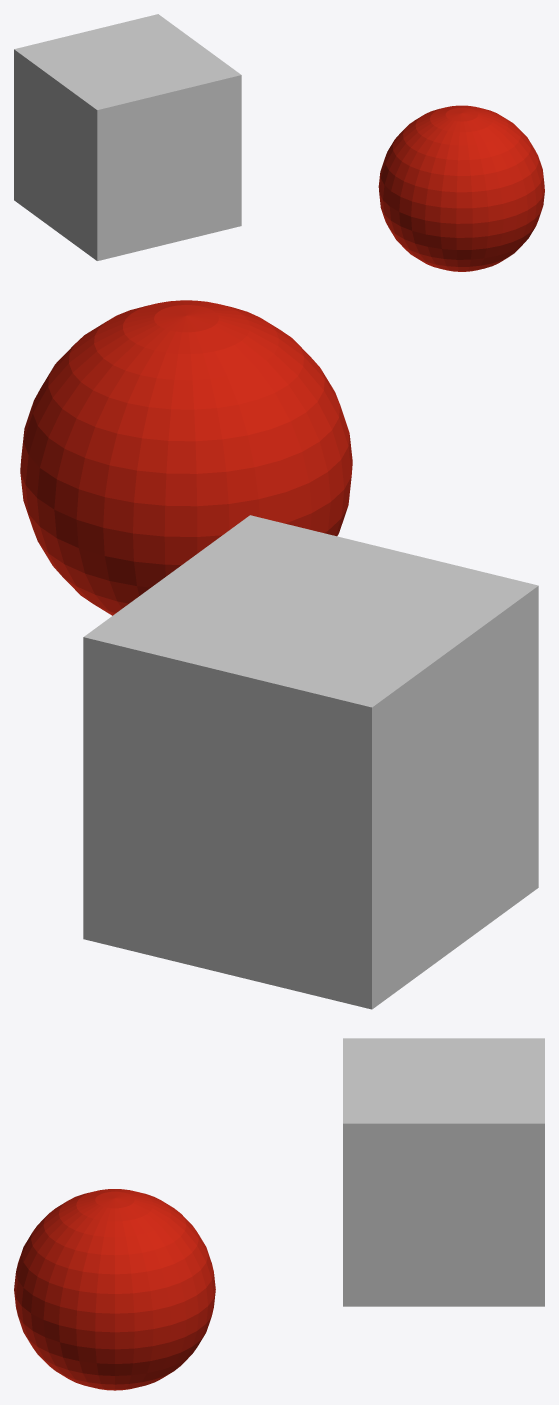
The model's file is abcd.obj.
3 views of the same model, one above another, from view 1: azimuth 30°, elevation 25°; view 2: azimuth 150°, elevation 25°; view 3: azimuth 270°, elevation 25° (orthographic). The views are drawn at different scales.
Visible parts, largest first — view 1: Cube_Cube.001, Sphere; view 2: Cube_Cube.001, Sphere; view 3: Cube_Cube.001, Sphere.
Part boxes in pixels (box(x1,y1,x2,y2)): Cube_Cube.001: box(14, 14, 241, 260); Sphere: box(378, 105, 544, 271); Cube_Cube.001: box(83, 515, 538, 1009); Sphere: box(20, 300, 352, 615); Cube_Cube.001: box(343, 1038, 544, 1306); Sphere: box(14, 1189, 215, 1390).
Size of the model in its own units: 4.75 by 2 by 5.26.
